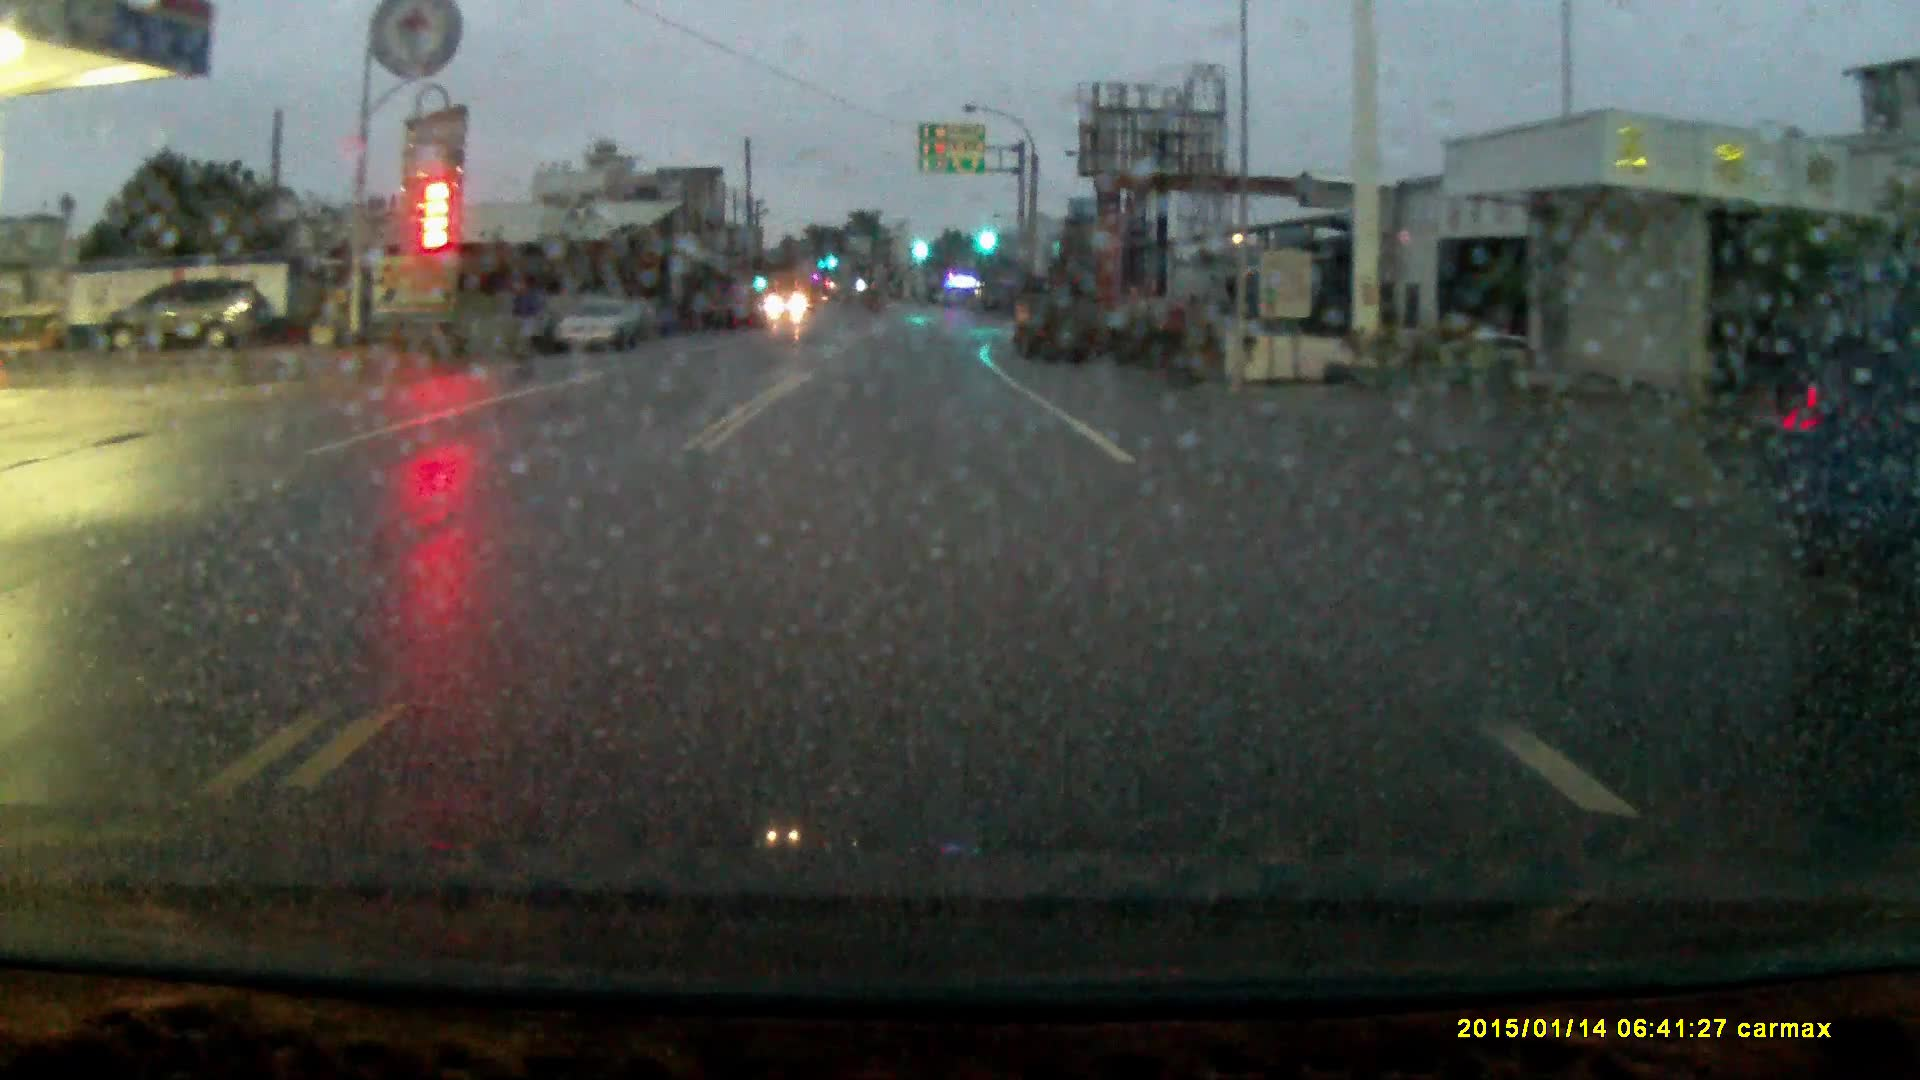rider: (489, 253, 560, 386)
vehicle: (1764, 260, 1920, 609), (97, 277, 278, 352), (1008, 268, 1103, 371), (553, 297, 662, 358)
